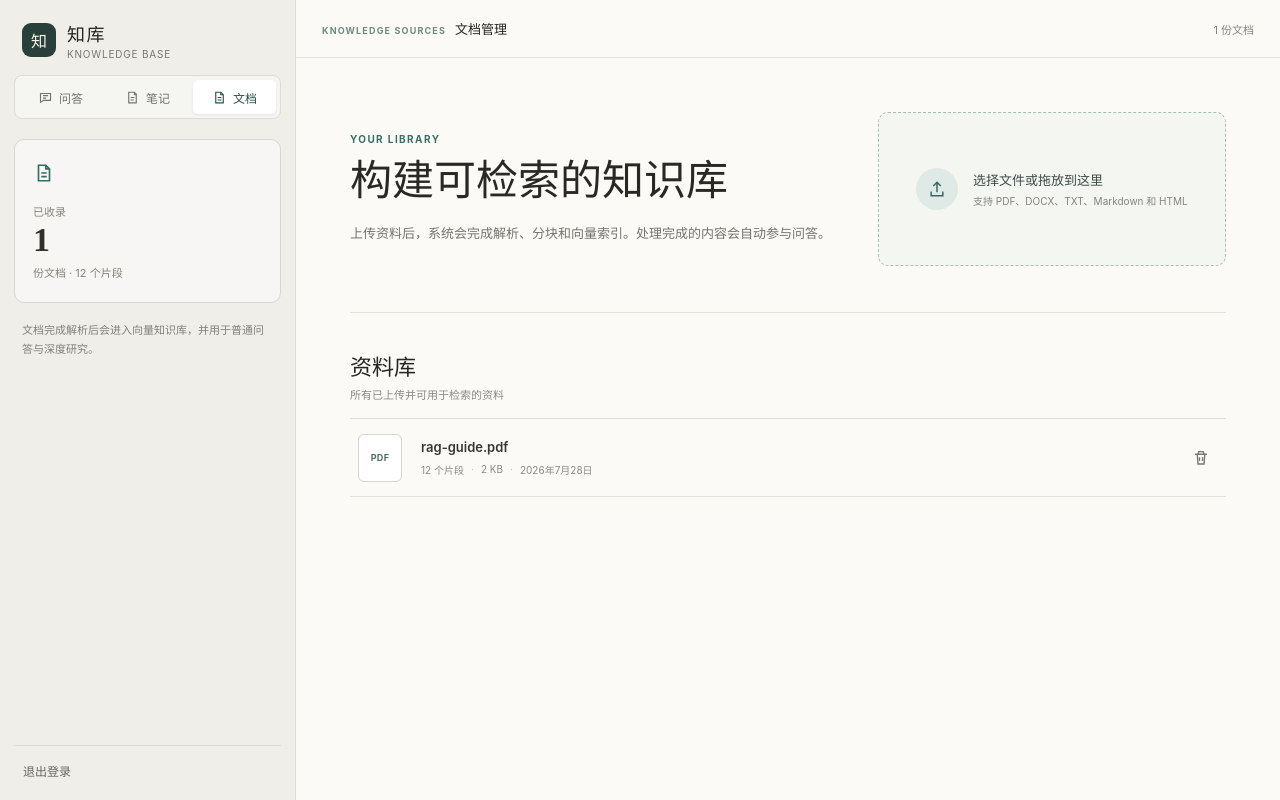
Test: 文档工作区 › 删除失败时恢复文档并给出可见提示
Check: the text "rag-guide.pdf" is shown, box [421,438,508,454]
Click the button named "删除 rag-guide.pdf": [1201, 458] box [1184,440,1218,474]
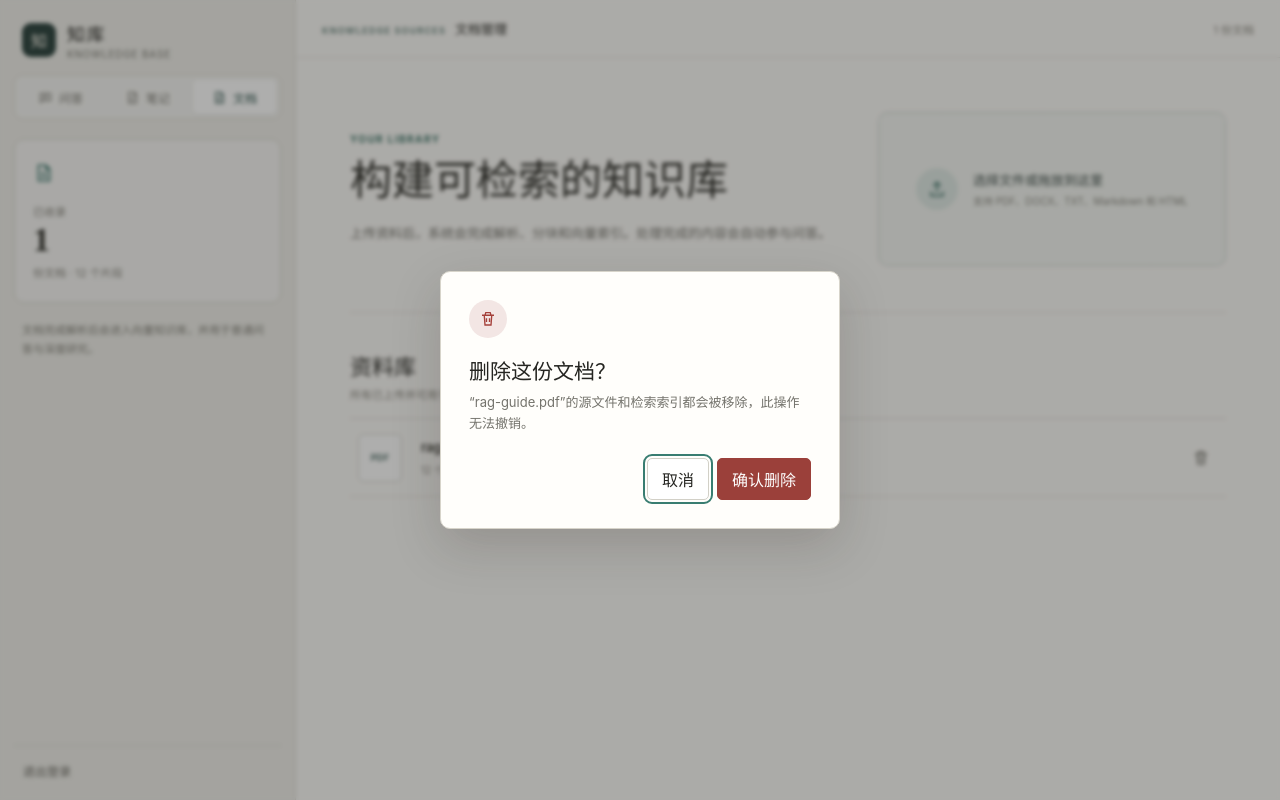
Click the button "确认删除": [764, 479] box [717,458,811,500]
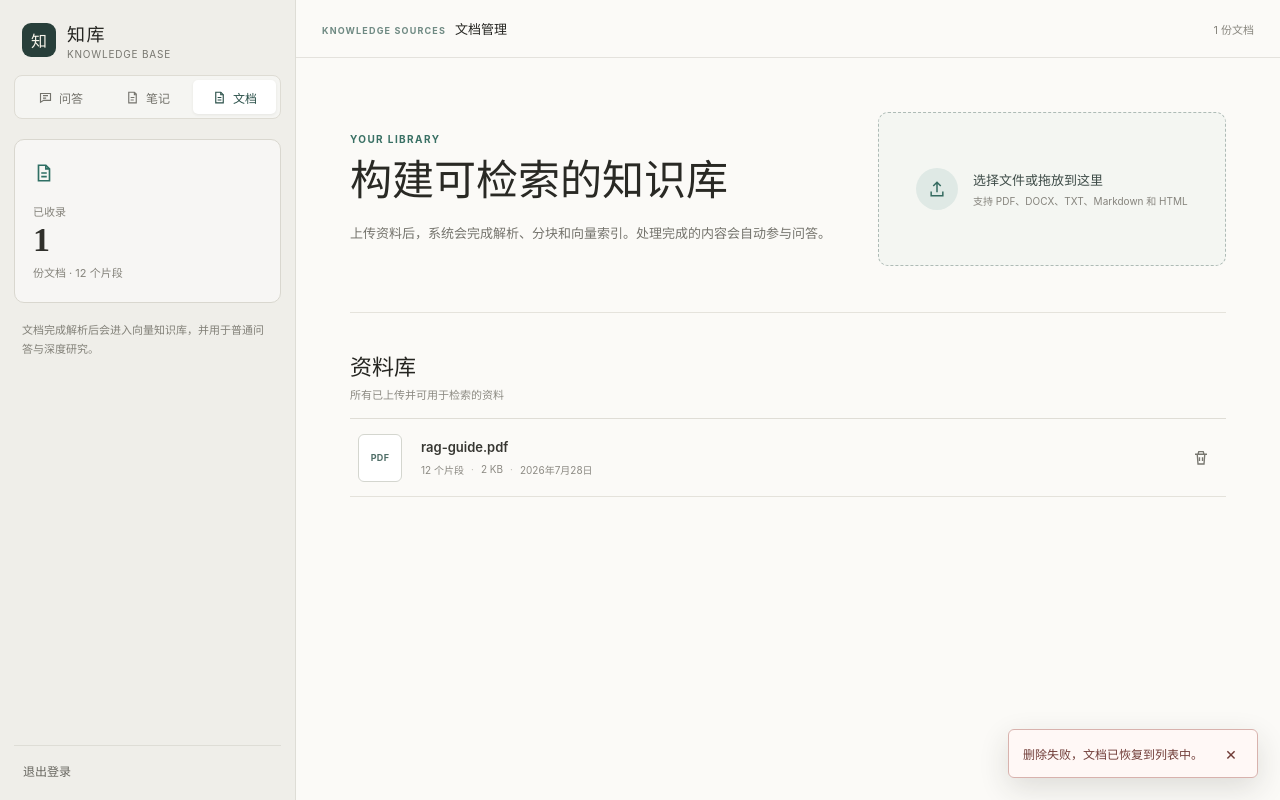
Check: the text "rag-guide.pdf" is shown, box [421,438,508,454]
Check: the text "删除失败，文档已恢复到列表中。" is shown, box [1023,745,1203,762]
